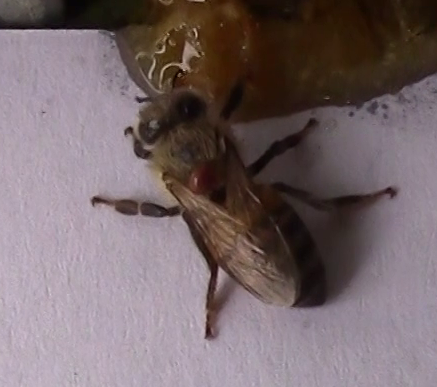Varroa destructor: (183, 158, 223, 197)
